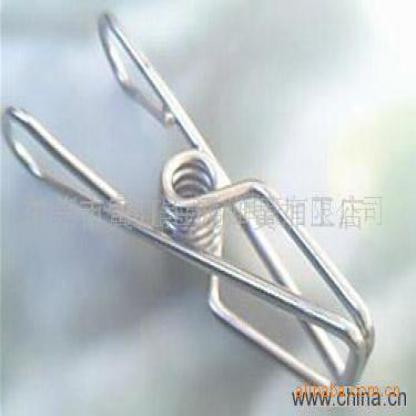FOD: (157, 146, 228, 263)
